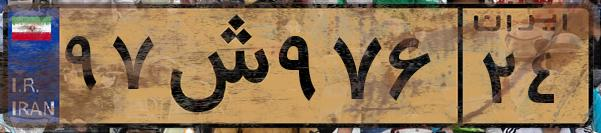2: (475, 38, 525, 113)
4: (525, 38, 570, 115)
6: (385, 28, 445, 110)
7: (330, 28, 385, 110), (110, 28, 158, 98)
9: (270, 28, 330, 110), (57, 26, 110, 100)
ش: (158, 12, 270, 120)
